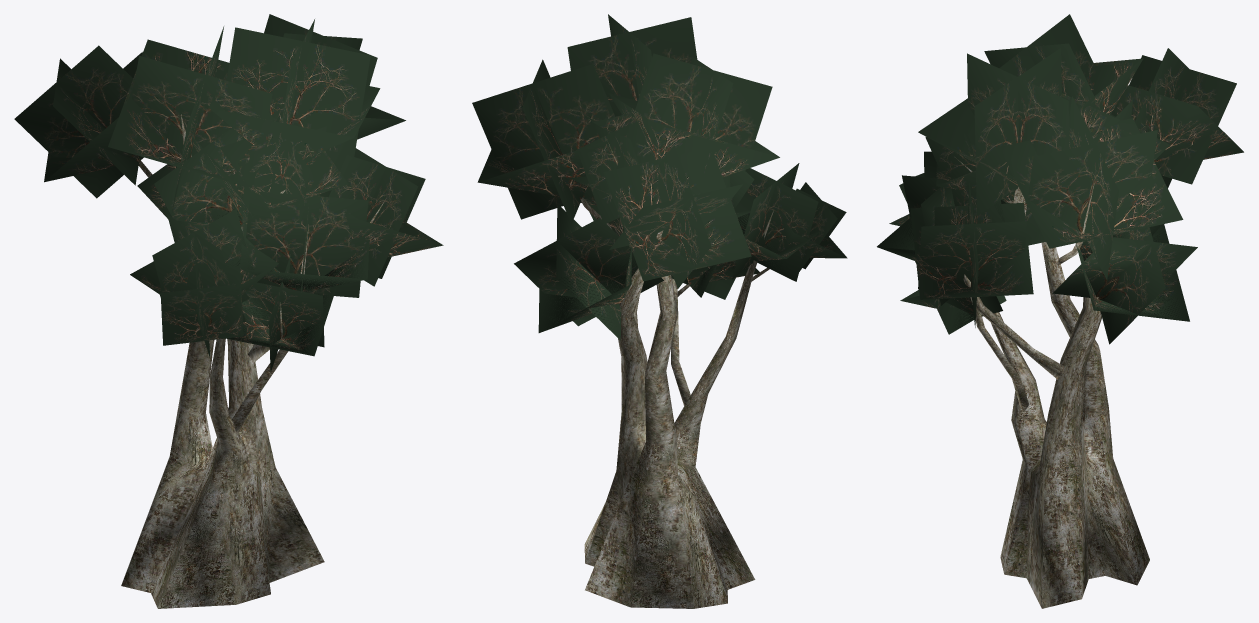
The model's file is decd_hollytreebranches_a1_l0.fbx.
3 renders of one model, left to right at view 1: azimuth 30°, elevation 25°; view 2: azimuth 150°, elevation 25°; view 3: azimuth 270°, elevation 25°, orthographic. The views are drawn at different scales.
Parts seen in each view (by area): view 1: mesh_node; view 2: mesh_node; view 3: mesh_node.
Boxes of the visible parts, x1,y1,x2,y2 form: mesh_node: (14, 14, 443, 608); mesh_node: (472, 14, 847, 608); mesh_node: (877, 14, 1243, 608).
Size of the model in its own units: 10.29 by 17.18 by 10.91.
